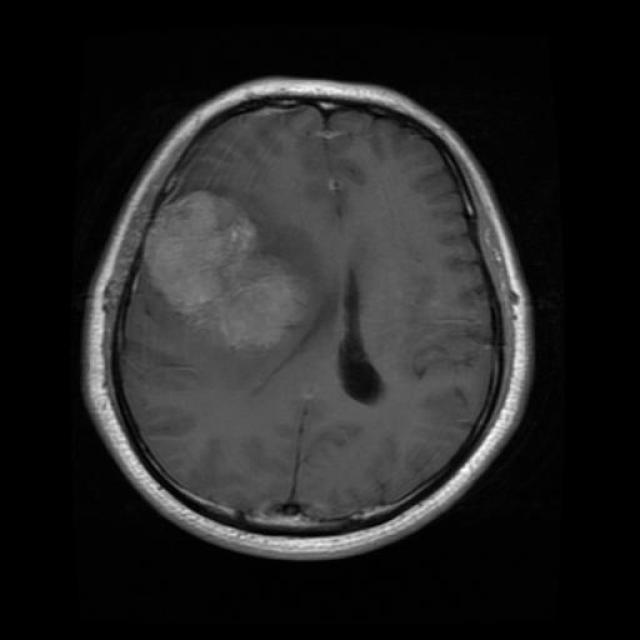meningioma: (148, 192, 308, 348)
